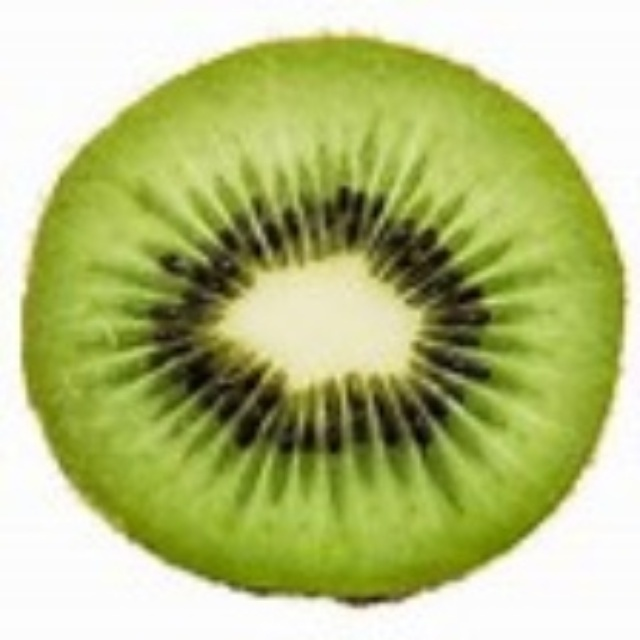kiwi: (25, 38, 625, 601)
